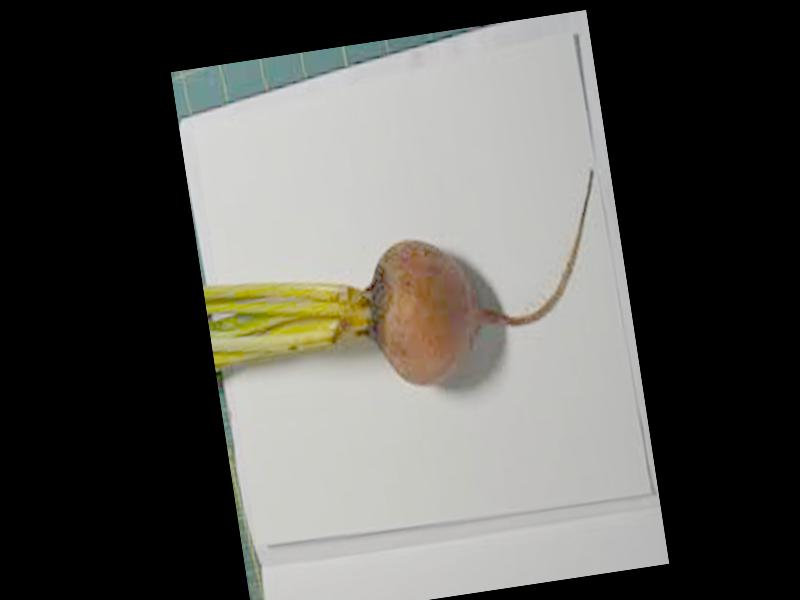Beet: (198, 170, 621, 415)
